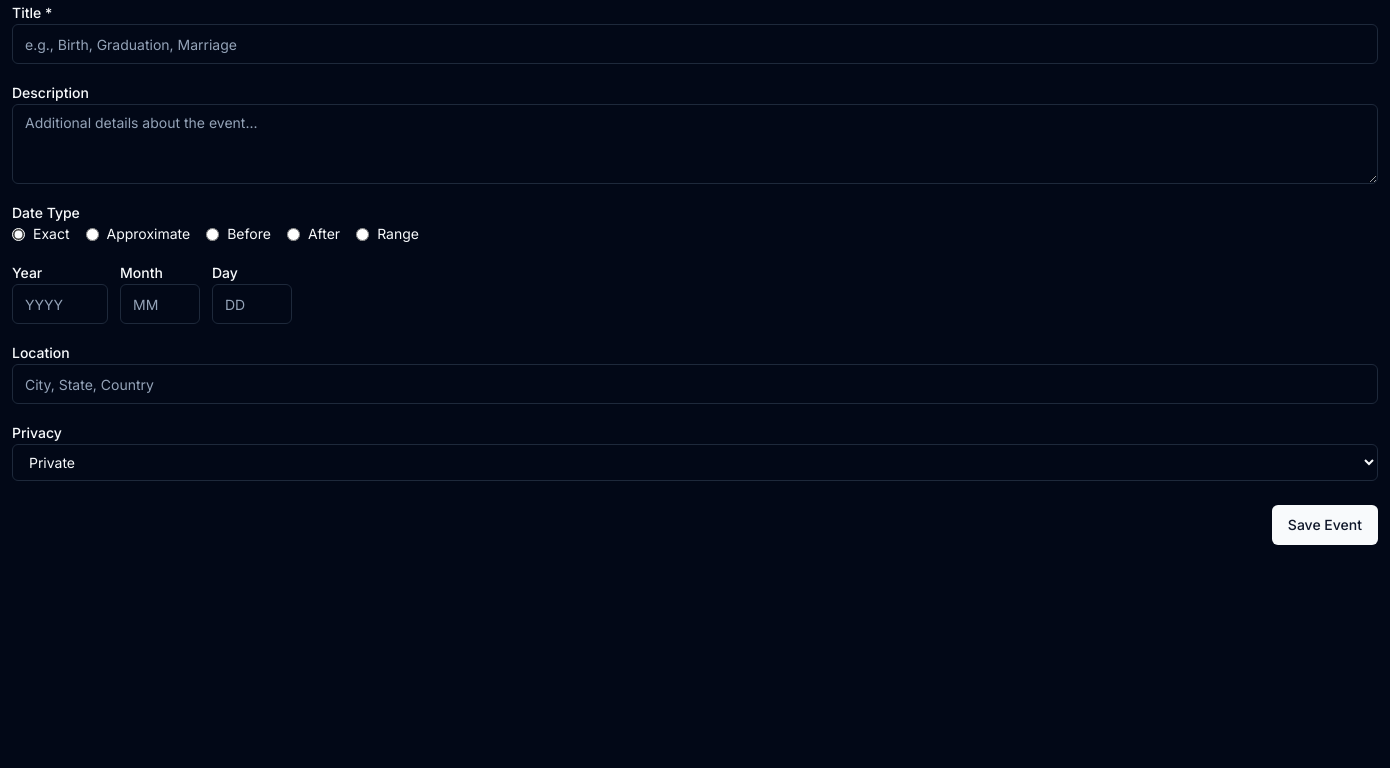
Test: EventForm › Validation › should validate title is required
Click the button "Save Event". click: (1325, 525)
box: left=1272, top=505, right=1378, bottom=545
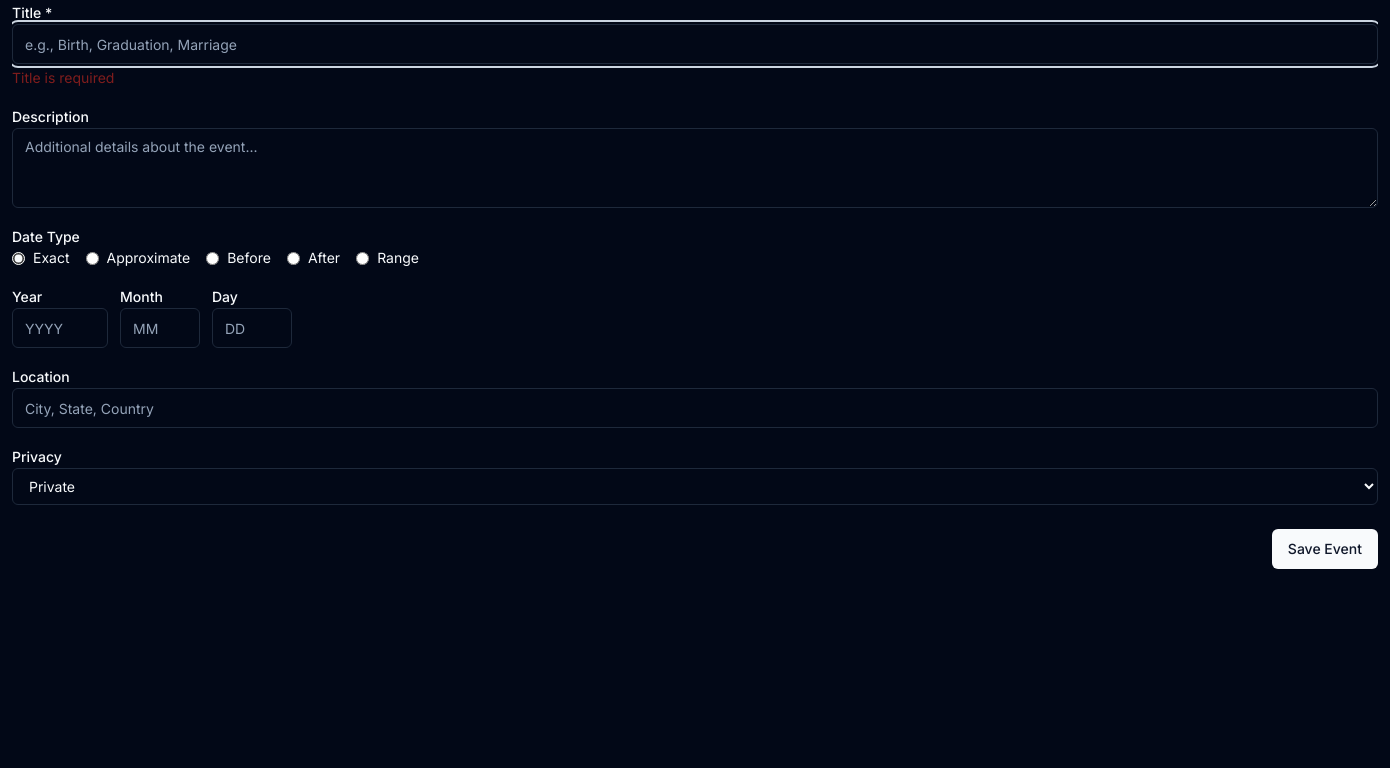
Check: the text "Title is required" is shown, box left=12, top=69, right=114, bottom=86
